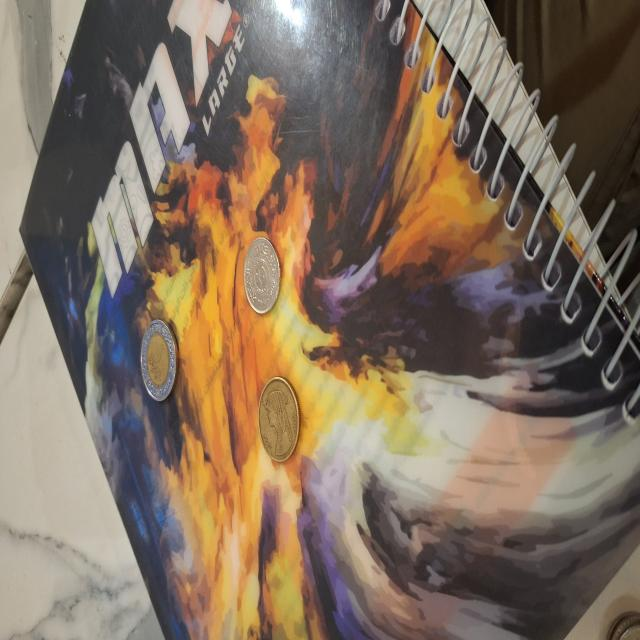Half Pound: (255, 377, 300, 464)
One Pound: (137, 319, 181, 405)
quarter pound: (242, 233, 283, 314)
